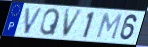1: (82, 10, 96, 39)
6: (119, 14, 138, 42)
M: (94, 12, 124, 41)
Q: (39, 8, 61, 37)
V: (62, 9, 85, 39), (23, 6, 44, 35)
